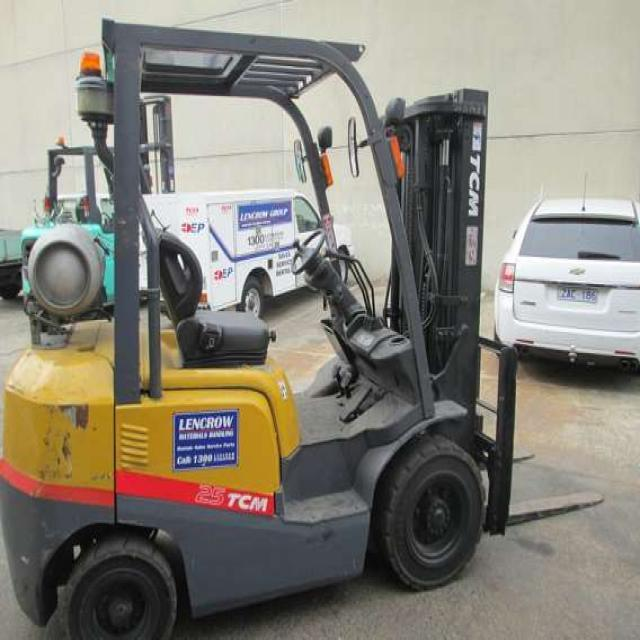forklift: (11, 14, 509, 626)
